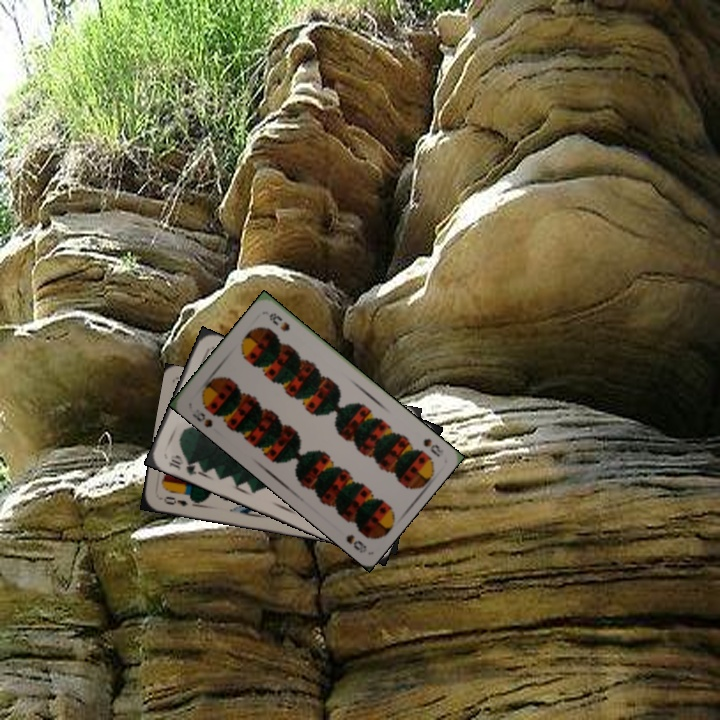EO: (160, 492, 190, 509)
G10: (164, 451, 202, 478)
S8: (419, 434, 446, 460), (188, 408, 215, 430)
